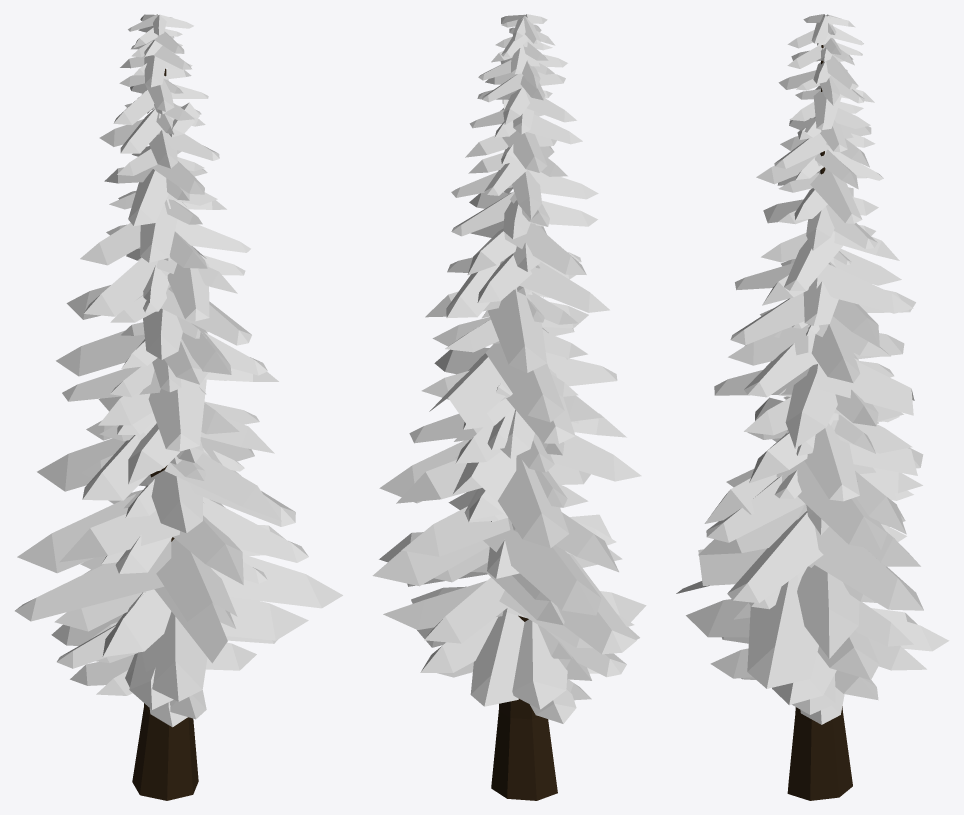
File: Tree.glb
The picture shows the model from 3 angles, left to right: view 1: azimuth 30°, elevation 25°; view 2: azimuth 150°, elevation 25°; view 3: azimuth 270°, elevation 25°; orthographic projection.
Visible parts, largest first — view 1: Tree2, Tree1; view 2: Tree2, Tree1; view 3: Tree2, Tree1.
Boxes of the visible parts, left/top/right/bottom form: Tree2: left=15, top=14, right=342, bottom=709; Tree1: left=54, top=247, right=277, bottom=800; Tree2: left=372, top=14, right=646, bottom=709; Tree1: left=417, top=223, right=626, bottom=800; Tree2: left=676, top=14, right=926, bottom=704; Tree1: left=710, top=251, right=949, bottom=800.
Bounding box in the file's own units: 20.21 × 54.25 × 17.38.
